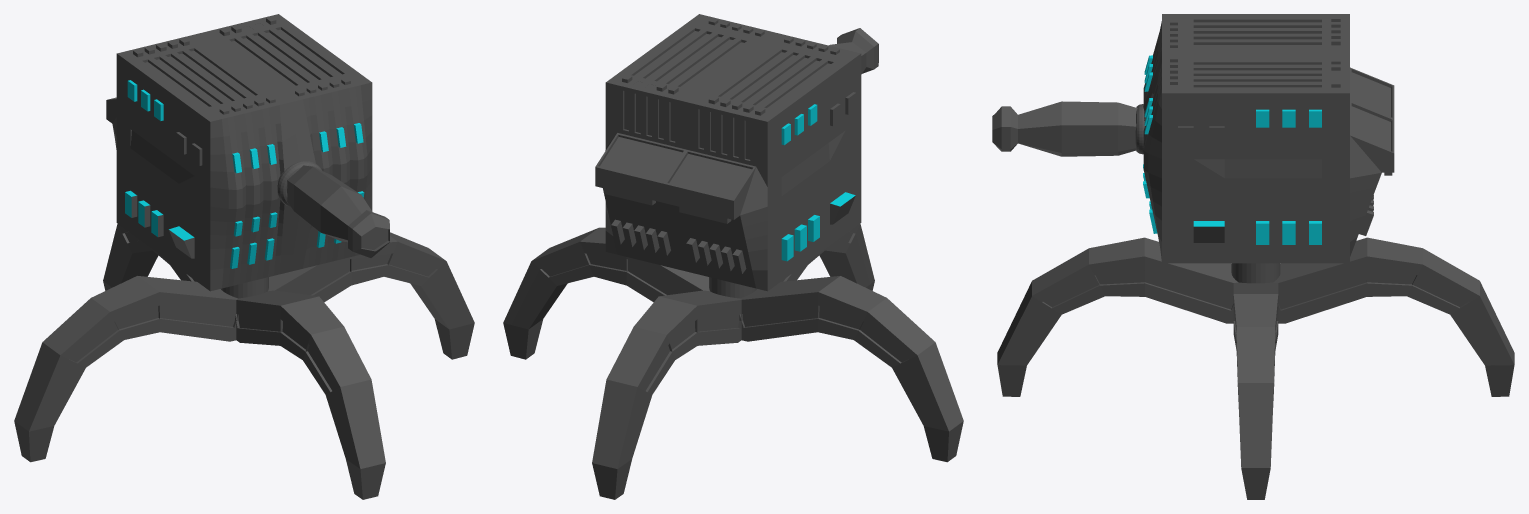
File: tourelle.fbx
3 renders of one model, left to right at view 1: azimuth 30°, elevation 25°; view 2: azimuth 150°, elevation 25°; view 3: azimuth 270°, elevation 25°, orthographic.
Visible parts, largest first — view 1: tourelle, patte; view 2: tourelle, patte; view 3: tourelle, patte.
Boxes of the visible parts, <box> form: tourelle: <box>106,14,389,291</box>; patte: <box>14,224,474,499</box>; tourelle: <box>595,14,878,291</box>; patte: <box>503,224,963,499</box>; tourelle: <box>992,14,1394,263</box>; patte: <box>997,237,1514,499</box>.
Bounding box in the file's own units: 551 × 403 × 556.
